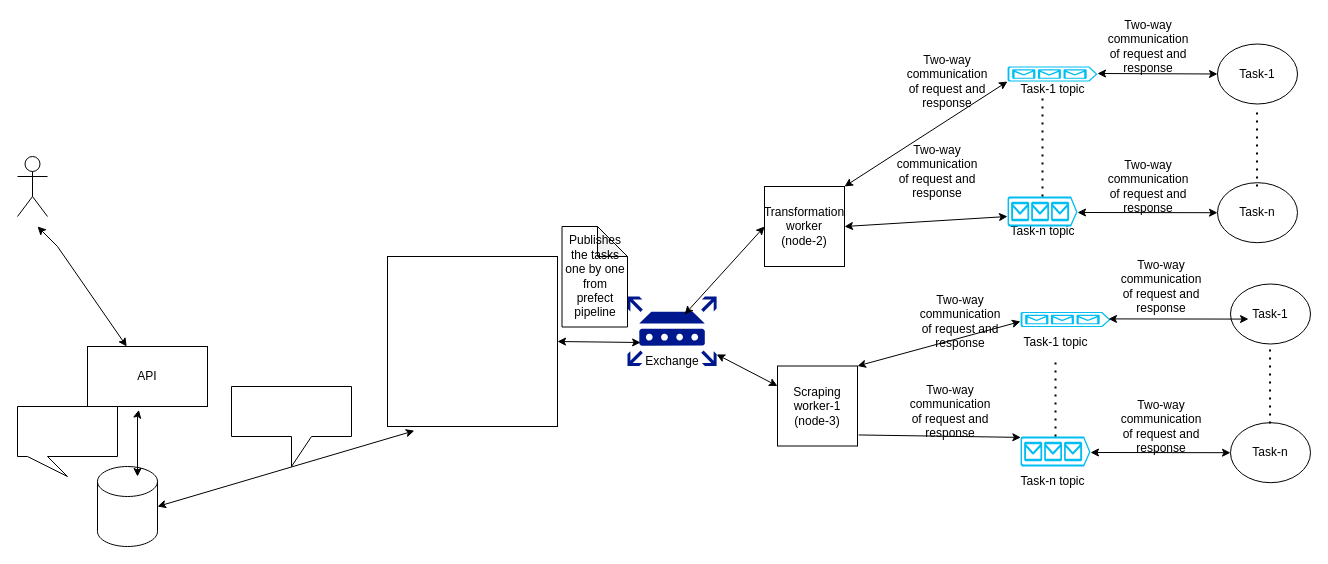
Image size: 1328x564. Some labels were removed from this diagram. The centre of each missing label's shape, as x and y in pixels:
Actor: pixel 32 186
Data from the request: pixel 67 441
pipeline-DB: pixel 127 506
Publisher (Prefect-pipeline) (node-1): pixel 472 341
Status of the pipeline and tasks: pixel 291 426
